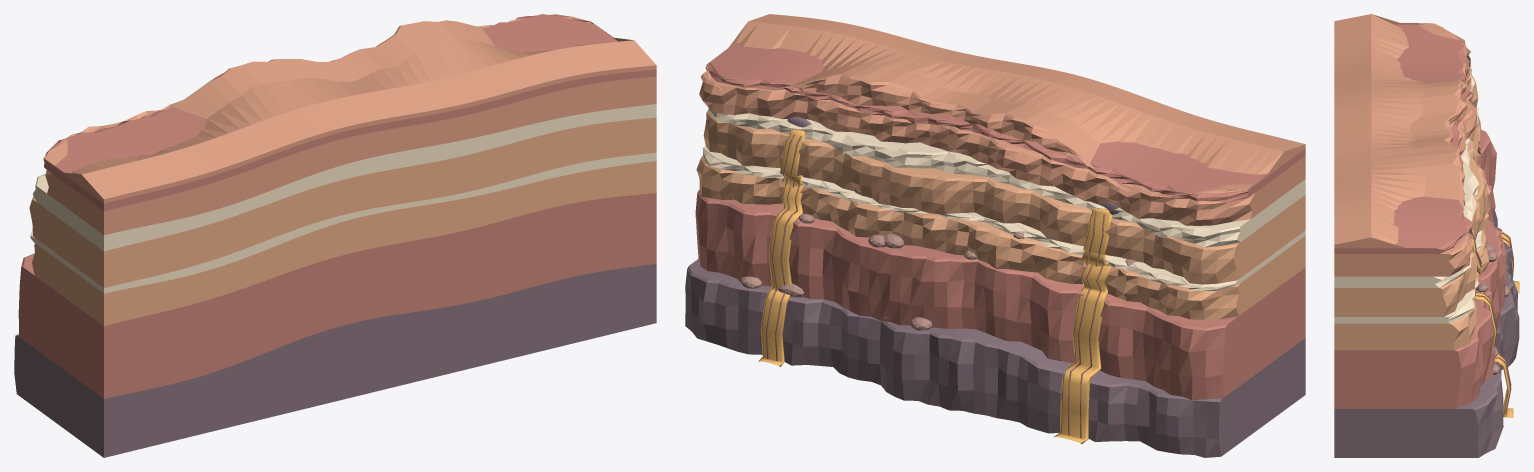
The model's file is SkateCanyonWall.glb.
3 views of the same model, side by side, from view 1: azimuth 30°, elevation 25°; view 2: azimuth 150°, elevation 25°; view 3: azimuth 270°, elevation 25° (orthographic). The views are drawn at different scales.
Parts seen in each view (by area): view 1: RockLow, RockTop, RockMid, Basalt, Stripe; view 2: RockLow, RockTop, Basalt, RockMid, Stripe, Lava, Crust, Boulders; view 3: RockTop, RockLow, Basalt, RockMid, Stripe, Lava, Crust, Boulders.
Boxes of the visible parts, <box> form: RockLow: <box>18,14,656,398</box>; RockTop: <box>43,14,656,234</box>; RockMid: <box>29,117,656,326</box>; Basalt: <box>14,264,656,457</box>; Stripe: <box>30,104,656,293</box>; RockLow: <box>695,43,1305,399</box>; RockTop: <box>699,14,1305,225</box>; Basalt: <box>685,117,1305,457</box>; RockMid: <box>696,110,1305,319</box>; Stripe: <box>702,108,1305,290</box>; Lava: <box>758,130,1111,443</box>; Crust: <box>766,134,1105,438</box>; Boulders: <box>740,188,1136,330</box>; RockTop: <box>1334,14,1477,276</box>; RockLow: <box>1334,24,1506,408</box>; Basalt: <box>1334,211,1519,457</box>; RockMid: <box>1334,74,1490,350</box>; Stripe: <box>1334,64,1482,323</box>; Lava: <box>1471,145,1519,417</box>; Crust: <box>1473,147,1513,414</box>; Boulders: <box>1475,236,1510,374</box>.
Size of the model in its own units: 200 by 99.34 by 70.13.
